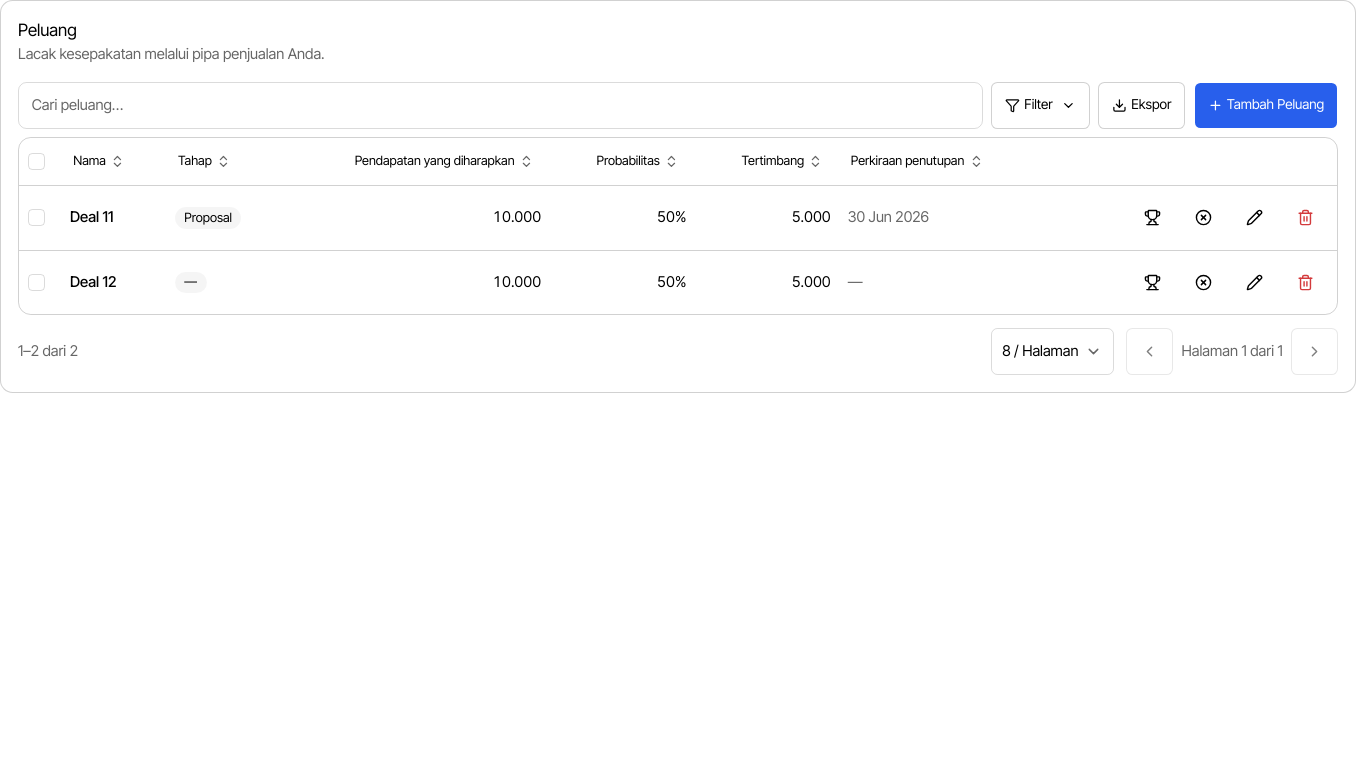
Test: OpportunitiesSection extra2 › opens the edit dialog from the row actions
Expected: the text "Deal 11" is shown, [70,208,113,226]
Click the button named "Ubah peluang" in the row of "Deal 11" at (1254, 218), box [1231,194,1278,241]
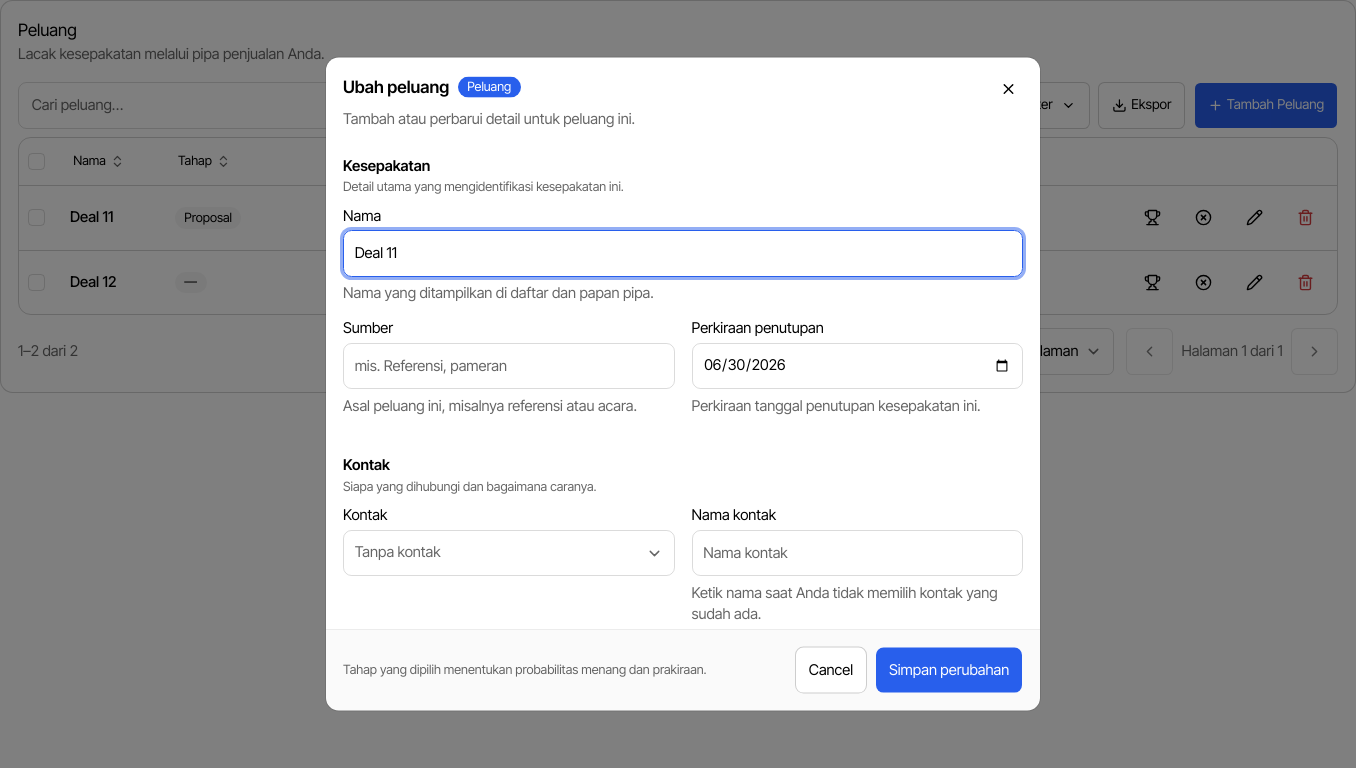
Now the heading "Ubah peluang" is shown, box [343,75,449,100]
